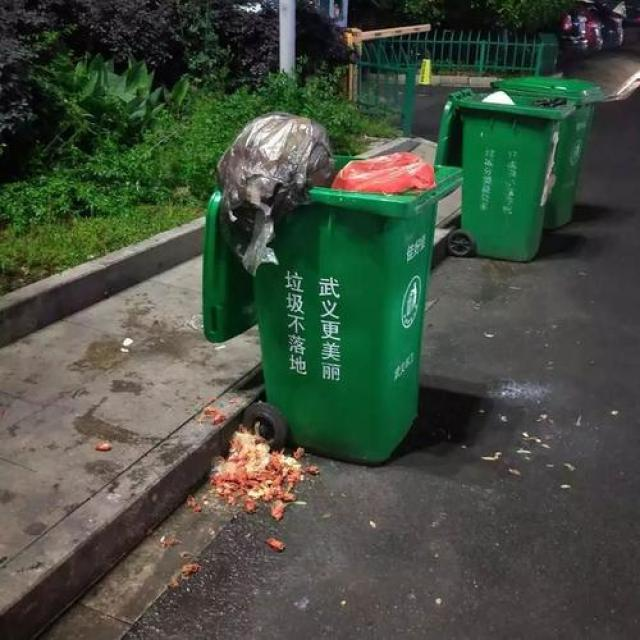garbage: (156, 406, 323, 589)
garbage_bin: (434, 86, 562, 261), (495, 74, 608, 227)
overflow: (201, 113, 462, 463)
